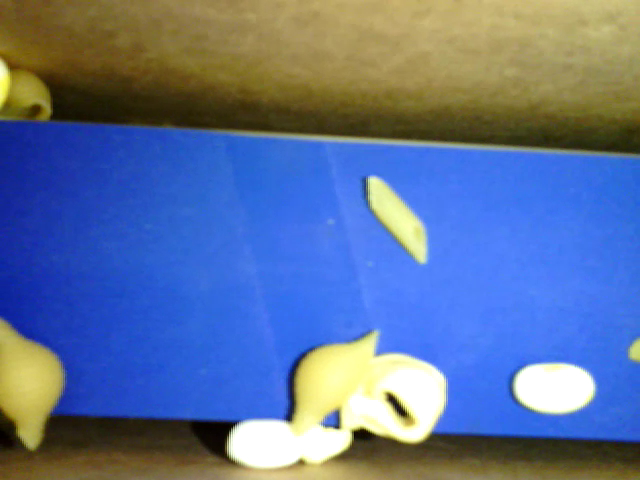penne: (364, 173, 428, 263)
shell: (288, 330, 379, 434), (2, 315, 61, 453), (1, 66, 56, 124)
tortellini: (341, 340, 449, 443)
